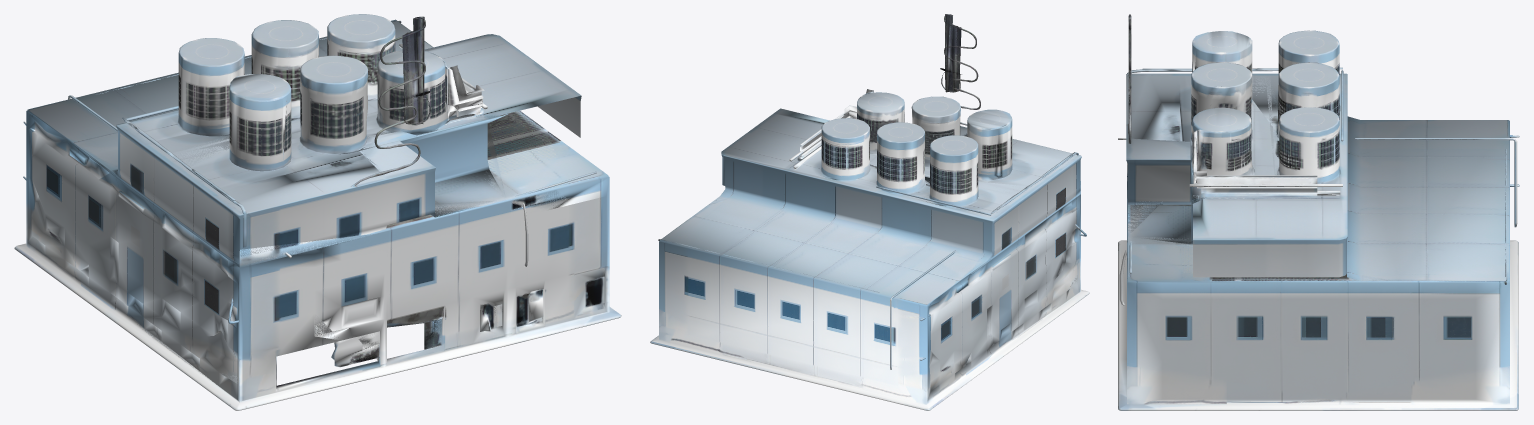
The model's file is datacenter.glb.
3 renders of one model, left to right at view 1: azimuth 30°, elevation 25°; view 2: azimuth 150°, elevation 25°; view 3: azimuth 270°, elevation 25°, orthographic. The views are drawn at different scales.
Bounding box in the file's own units: 1.91 × 1.62 × 1.91.
Materials: 1 (1 with a texture image).
